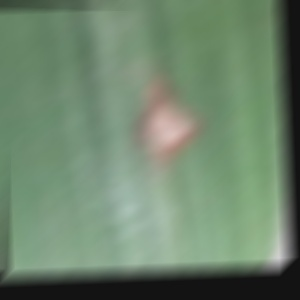Brown_Spot: (133, 65, 212, 182)
